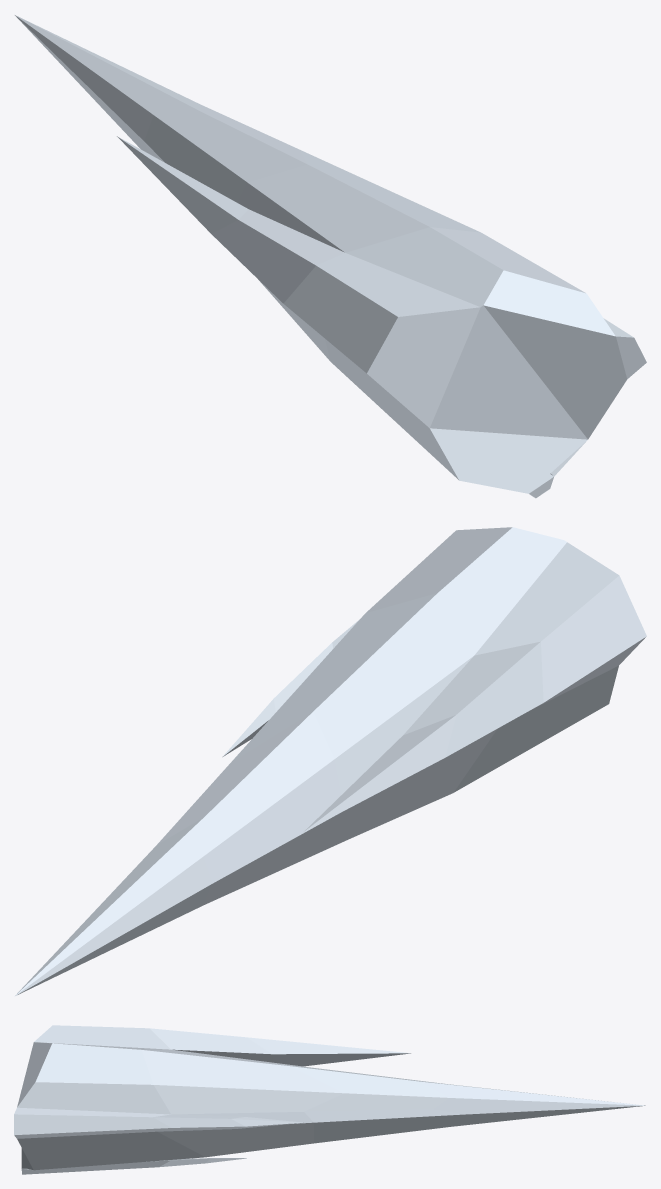
File: Runestrife-Tower-Ice-Projectile.fbx
3 renders of one model, top to bottom at view 1: azimuth 30°, elevation 25°; view 2: azimuth 150°, elevation 25°; view 3: azimuth 270°, elevation 25°, orthographic. The views are drawn at different scales.
Parts seen in each view (by area): view 1: Ice Projectile; view 2: Ice Projectile; view 3: Ice Projectile.
Part boxes in pixels (x1=…): Ice Projectile: x1=15, y1=15, x2=646, y2=498; Ice Projectile: x1=14, y1=527, x2=646, y2=996; Ice Projectile: x1=14, y1=1025, x2=645, y2=1174.
Bounding box in the file's own units: 53.2 × 43.74 × 195.
